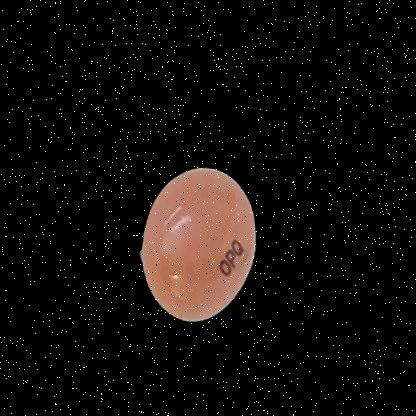opiqutan: (102, 136, 298, 356)
